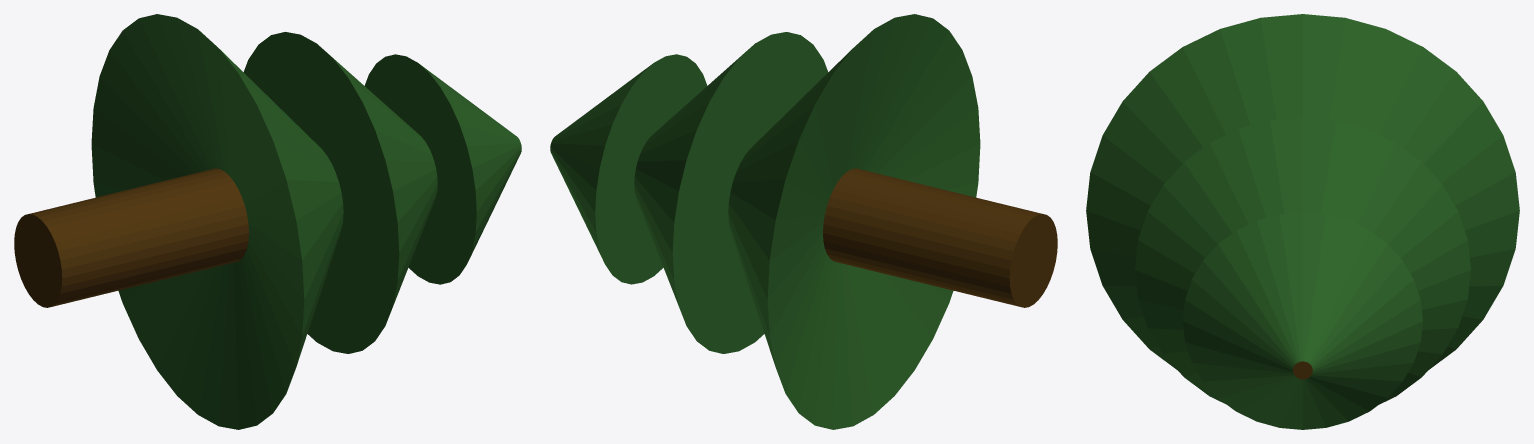
The model's file is Tree.glb.
The picture shows the model from 3 angles, left to right: view 1: azimuth 30°, elevation 25°; view 2: azimuth 150°, elevation 25°; view 3: azimuth 270°, elevation 25°; orthographic projection.
Visible parts, largest first — view 1: Tree; view 2: Tree; view 3: Tree.
Boxes of the visible parts, x1=… form: Tree: x1=14, y1=14, x2=521, y2=429; Tree: x1=550, y1=14, x2=1057, y2=429; Tree: x1=1086, y1=14, x2=1519, y2=429.
Bounding box in the file's own units: 3.54 × 2.73 × 2.73.
